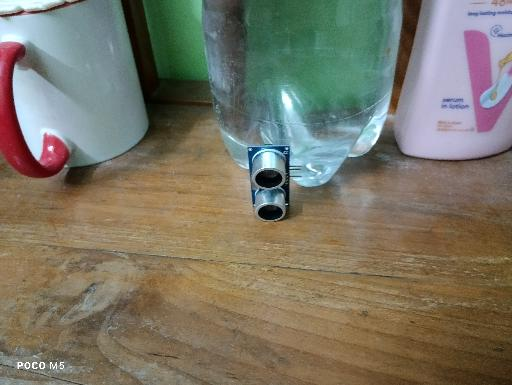sensor: (246, 144, 303, 222)
